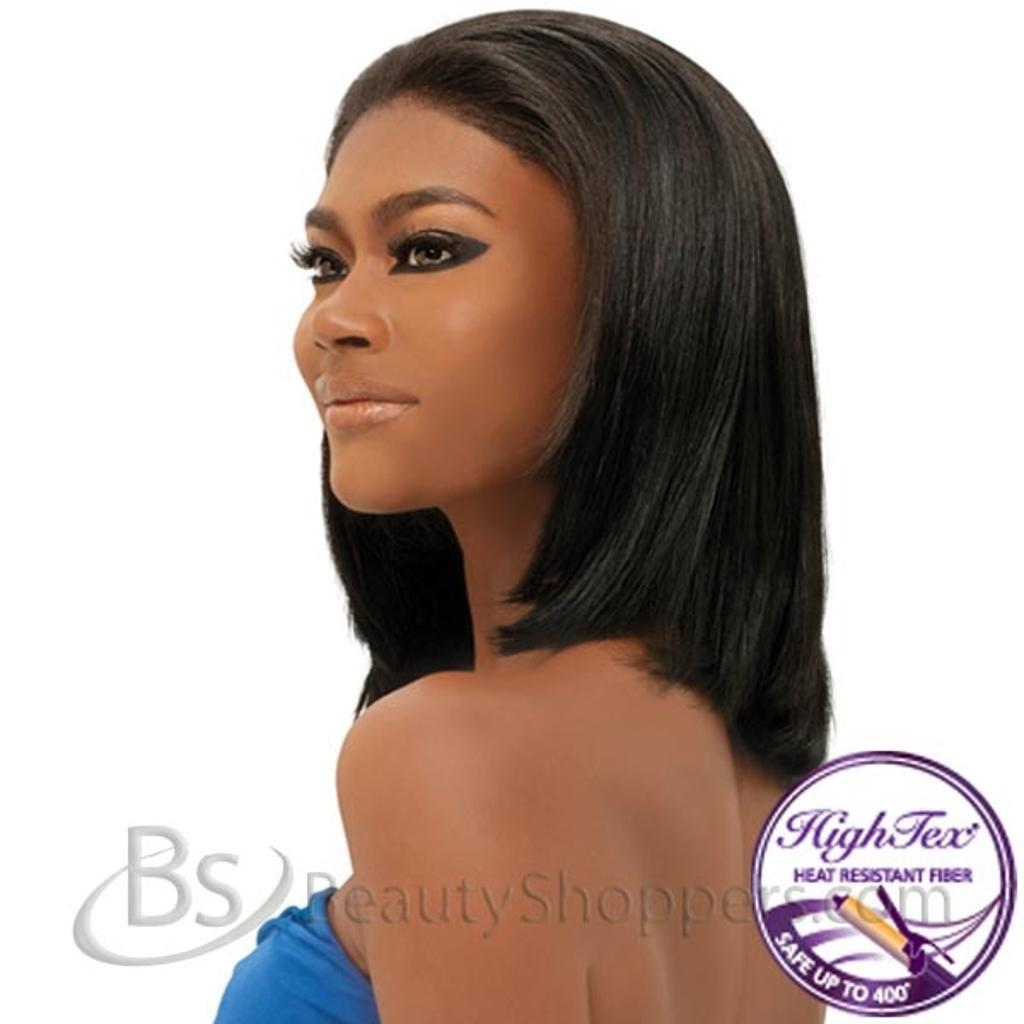face: (293, 145, 587, 513)
